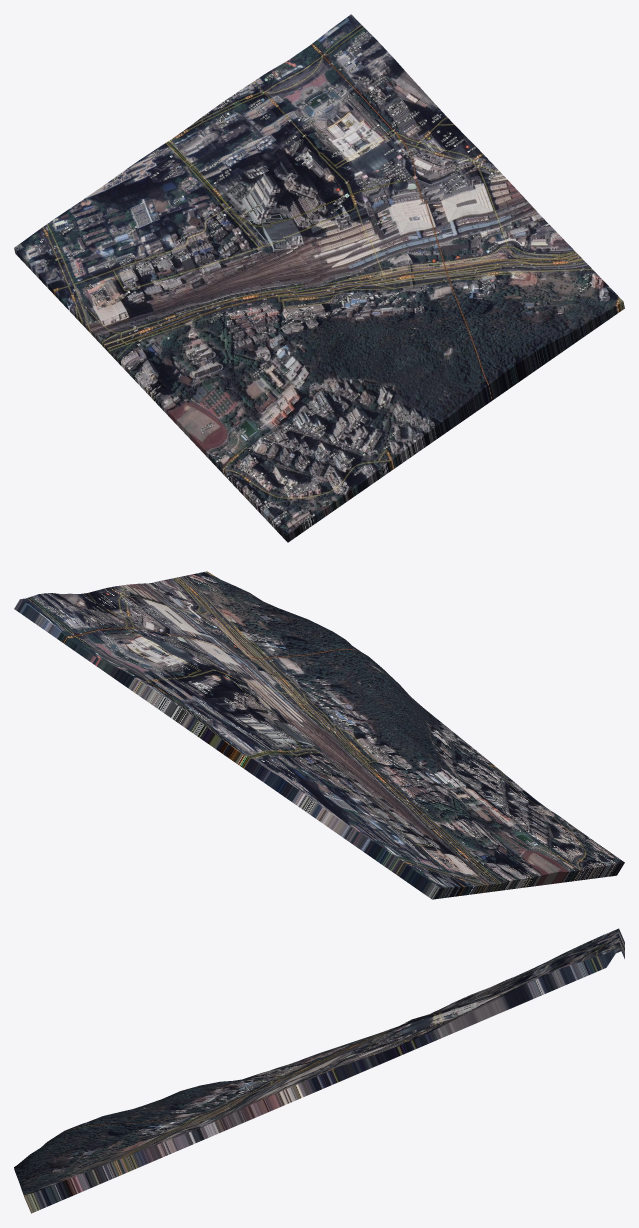
3 renders of one model, top to bottom at view 1: azimuth 30°, elevation 25°; view 2: azimuth 150°, elevation 25°; view 3: azimuth 270°, elevation 25°, orthographic. The views are drawn at different scales.
Parts seen in each view (by area): view 1: 1_2_11; view 2: 1_2_11; view 3: 1_2_11.
Part boxes in pixels (x1,y1,x2,y2): 1_2_11: [14, 14, 624, 542]; 1_2_11: [14, 571, 624, 899]; 1_2_11: [14, 928, 624, 1213].
Bounding box in the file's own units: 1233 × 906 × 1151.
1 material, 1 textured.
